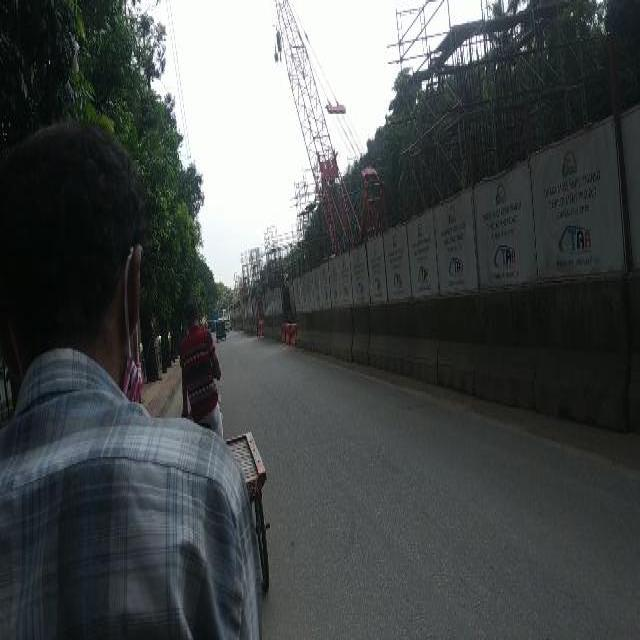three wheelers -CNG-: (214, 318, 226, 340)
